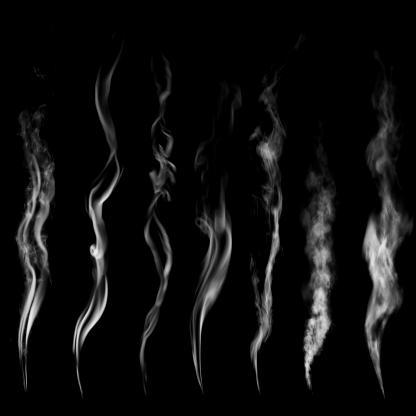smoke: (70, 52, 121, 384), (138, 52, 176, 384), (246, 69, 286, 378), (14, 102, 56, 391), (362, 106, 402, 400), (298, 167, 337, 385), (188, 198, 231, 391)
